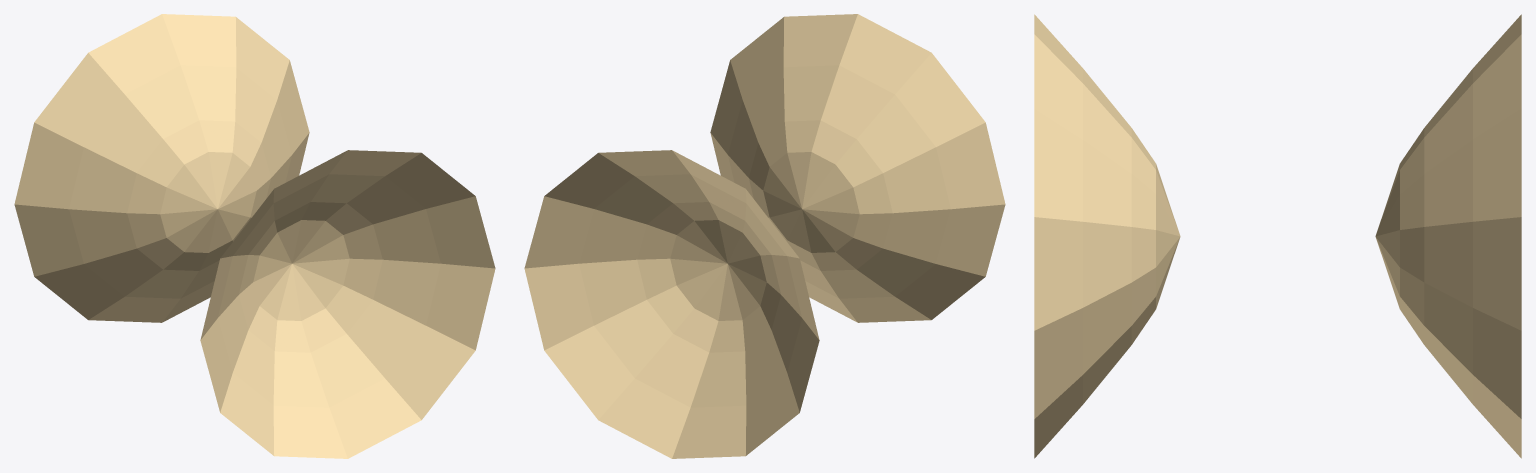
The model's file is hyperboloid_two_sheets.obj.
3 views of the same model, side by side, from view 1: azimuth 30°, elevation 25°; view 2: azimuth 150°, elevation 25°; view 3: azimuth 270°, elevation 25° (orthographic). The views are drawn at different scales.
Bounding box in the file's own units: 4.58 × 4.58 × 5.
